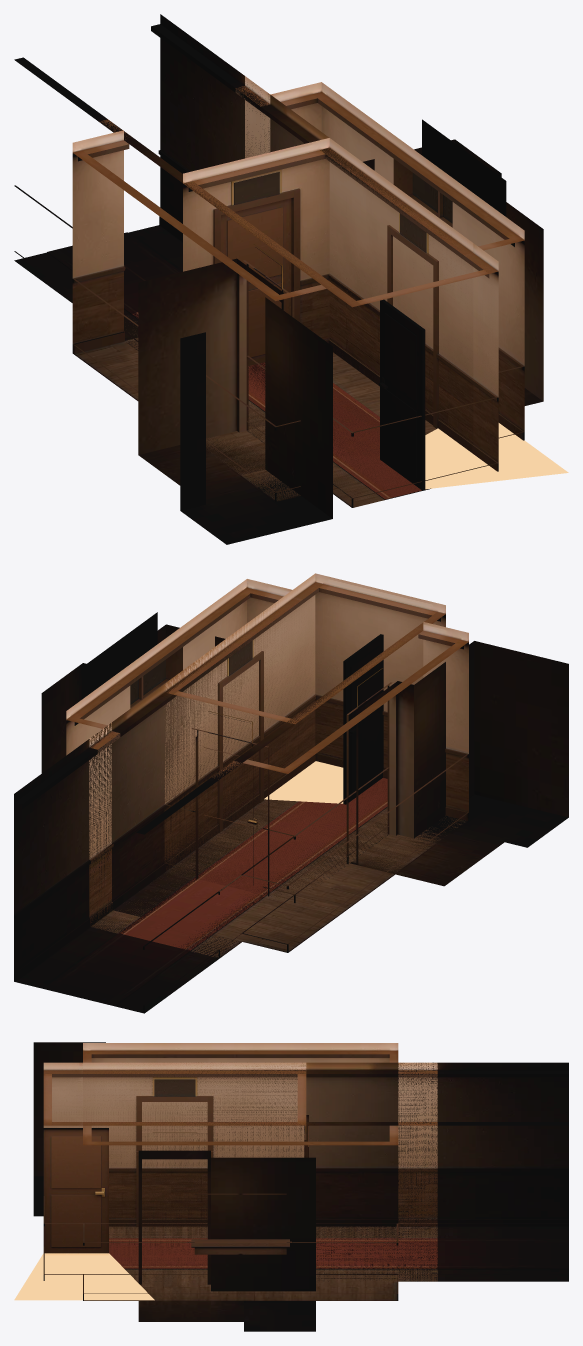
Rendered from corridor-kit.glb.
3 renders of one model, top to bottom at view 1: azimuth 30°, elevation 25°; view 2: azimuth 150°, elevation 25°; view 3: azimuth 270°, elevation 25°, orthographic. The views are drawn at different scales.
Visible parts, largest first — view 1: K_door_l, K_break, K_end, K_end_door, K_door_lr, K_leaf, K_spill, K_entrance; view 2: K_door_l, K_end, K_break, K_door_lr, K_entrance, K_leaf, K_spill, K_end_door; view 3: K_end, K_break, K_door_l, K_door_lr, K_door_r, K_leaf, K_spill, K_end_door, K_entrance.
Part boxes in pixels (bbox=[...]): K_door_l: bbox=[138, 138, 498, 544]; K_break: bbox=[72, 76, 524, 507]; K_end: bbox=[14, 14, 498, 505]; K_end_door: bbox=[183, 138, 329, 365]; K_door_lr: bbox=[329, 139, 543, 470]; K_leaf: bbox=[379, 299, 425, 490]; K_spill: bbox=[425, 423, 568, 489]; K_entrance: bbox=[351, 268, 497, 507]; K_door_l: bbox=[164, 575, 568, 902]; K_end: bbox=[14, 576, 442, 1013]; K_break: bbox=[66, 574, 468, 958]; K_door_lr: bbox=[41, 574, 315, 870]; K_entrance: bbox=[314, 573, 445, 778]; K_leaf: bbox=[343, 634, 383, 804]; K_spill: bbox=[264, 761, 343, 803]; K_end_door: bbox=[166, 691, 298, 902]; K_end: bbox=[44, 1062, 568, 1281]; K_break: bbox=[43, 1043, 437, 1300]; K_door_l: bbox=[33, 1042, 306, 1280]; K_door_lr: bbox=[44, 1132, 315, 1331]; K_door_r: bbox=[43, 1062, 306, 1226]; K_leaf: bbox=[43, 1128, 108, 1253]; K_spill: bbox=[14, 1253, 154, 1300]; K_end_door: bbox=[297, 1070, 308, 1157]; K_entrance: bbox=[43, 1070, 51, 1280].
Bounding box in the file's own units: 5.6 × 2.75 × 8.45.
11 materials, 9 textured.
